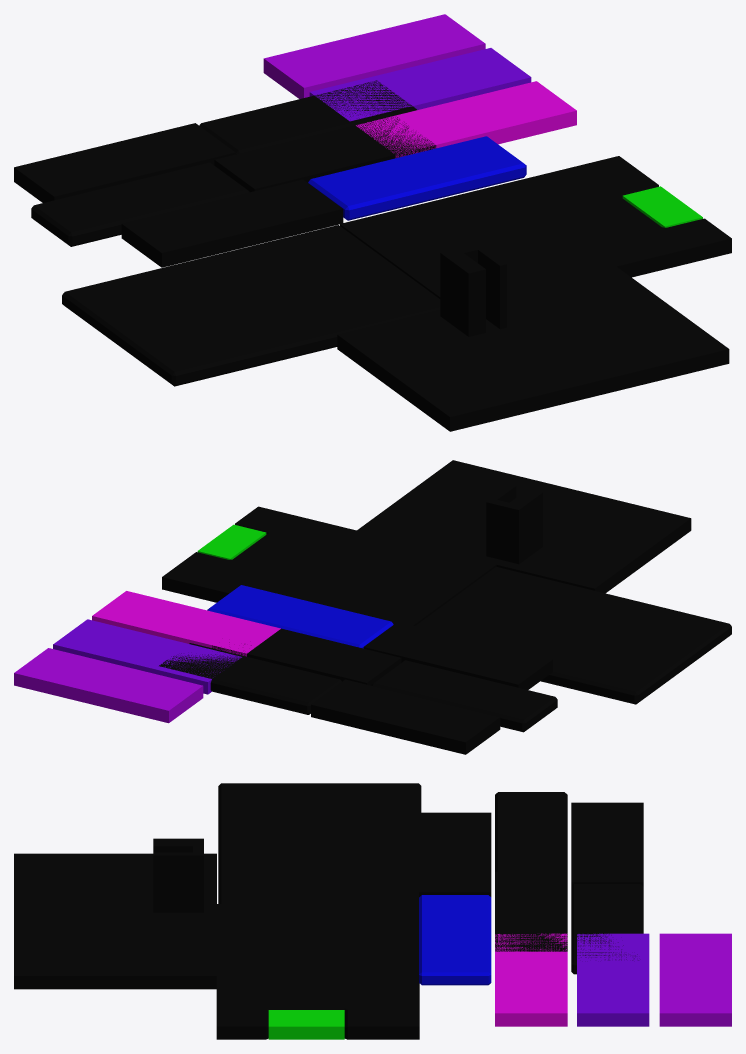
Rendered from vertexRedThreedifferentlevels.fbx.
3 renders of one model, top to bottom at view 1: azimuth 30°, elevation 25°; view 2: azimuth 150°, elevation 25°; view 3: azimuth 270°, elevation 25°, orthographic. The views are drawn at different scales.
Parts seen in each view (by area): view 1: obj4.003; view 2: obj4.003; view 3: obj4.003.
Part boxes in pixels (x1,y1,x2,y2): obj4.003: [14, 14, 731, 431]; obj4.003: [14, 460, 731, 754]; obj4.003: [14, 783, 731, 1039].
Size of the model in its own units: 399 by 53.44 by 495.
